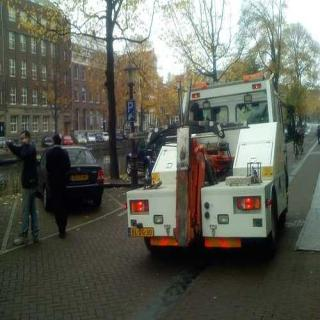Towing_truck: (124, 71, 290, 259)
